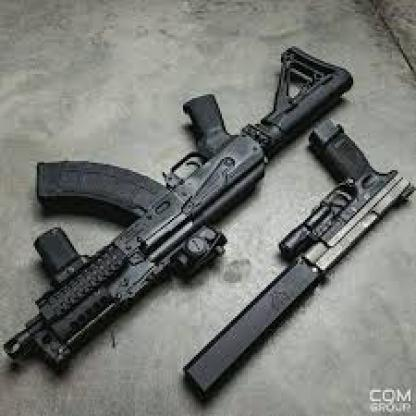Gun: (6, 45, 352, 376)
Pistol: (179, 119, 414, 400)
